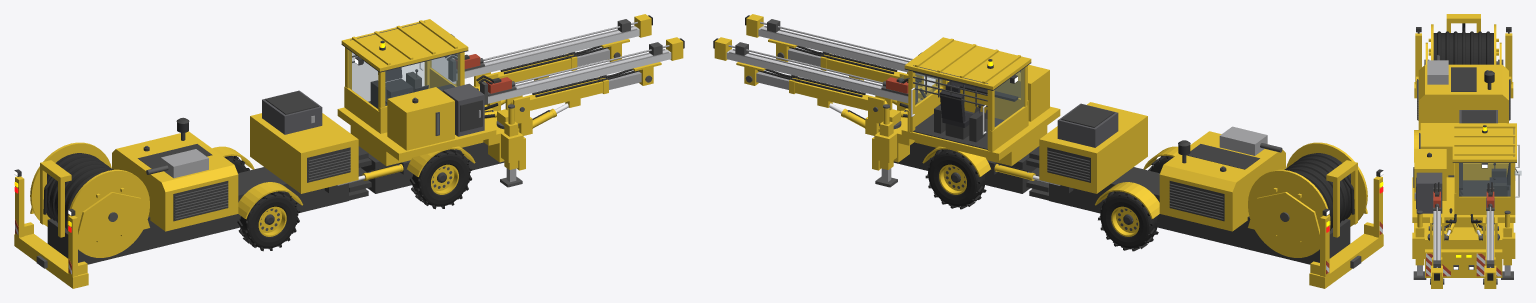
Rendered from development_jumbo.glb.
3 renders of one model, left to right at view 1: azimuth 30°, elevation 25°; view 2: azimuth 150°, elevation 25°; view 3: azimuth 270°, elevation 25°, orthographic. The views are drawn at different scales.
Visible parts, largest first — view 1: hitch_rotate, front_frame, canopy, cable_reel_spin, feed_right_slide, feed_left_slide, wheel_front_right_spin, wheel_rear_right_spin, boom_right_tilt, boom_left_tilt, boom_right_rotate, rock_drill_right_slide; view 2: hitch_rotate, canopy, front_frame, cable_reel_spin, feed_left_slide, feed_right_slide, wheel_front_left_spin, wheel_rear_left_spin, boom_left_tilt, boom_right_tilt, boom_left_rotate; view 3: hitch_rotate, front_frame, canopy, cable_reel_spin, feed_left_slide, feed_right_slide, boom_right_rotate, boom_left_rotate, rock_drill_left_slide, rock_drill_right_slide, boom_left_tilt, boom_right_tilt (+2 smaller).
Boxes of the visible parts, left/top/right/bottom form: hitch_rotate: left=14, top=90, right=368, bottom=288; front_frame: left=337, top=81, right=525, bottom=193; canopy: left=341, top=19, right=468, bottom=133; cable_reel_spin: left=30, top=142, right=149, bottom=257; feed_right_slide: left=480, top=37, right=684, bottom=104; feed_left_slide: left=448, top=14, right=652, bottom=81; wheel_front_right_spin: left=409, top=149, right=472, bottom=209; wheel_rear_right_spin: left=237, top=191, right=299, bottom=251; boom_right_tilt: left=510, top=67, right=653, bottom=110; boom_left_tilt: left=478, top=44, right=621, bottom=84; boom_right_rotate: left=496, top=95, right=532, bottom=135; rock_drill_right_slide: left=476, top=75, right=516, bottom=96; hitch_rotate: left=1029, top=102, right=1383, bottom=288; canopy: left=899, top=37, right=1031, bottom=151; front_frame: left=872, top=65, right=1060, bottom=193; cable_reel_spin: left=1248, top=142, right=1367, bottom=257; feed_left_slide: left=713, top=37, right=917, bottom=103; feed_right_slide: left=745, top=14, right=940, bottom=80; wheel_front_left_spin: left=925, top=149, right=988, bottom=209; wheel_rear_left_spin: left=1098, top=191, right=1160, bottom=251; boom_left_tilt: left=744, top=66, right=887, bottom=110; boom_right_tilt: left=776, top=43, right=907, bottom=82; boom_left_rotate: left=865, top=95, right=901, bottom=135; hitch_rotate: left=1414, top=14, right=1513, bottom=177; front_frame: left=1412, top=149, right=1515, bottom=277; canopy: left=1452, top=123, right=1521, bottom=214; cable_reel_spin: left=1428, top=24, right=1498, bottom=64; feed_left_slide: left=1484, top=187, right=1496, bottom=286; feed_right_slide: left=1431, top=187, right=1442, bottom=286; boom_right_rotate: left=1427, top=216, right=1445, bottom=243; boom_left_rotate: left=1481, top=216, right=1499, bottom=243; rock_drill_left_slide: left=1486, top=182, right=1494, bottom=210; rock_drill_right_slide: left=1433, top=182, right=1441, bottom=210; boom_left_tilt: left=1483, top=223, right=1497, bottom=288; boom_right_tilt: left=1430, top=224, right=1444, bottom=288.
Bounding box in the file's own units: 14.18 × 3.09 × 2.55.
Materials: 20 (20 with a texture image).
